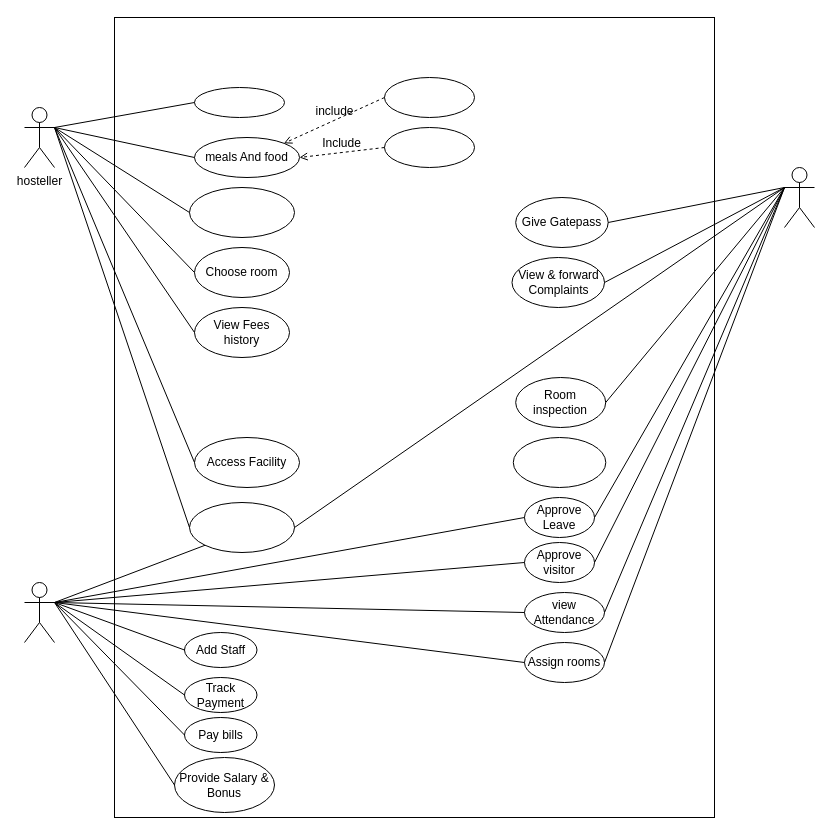
This 838x835 diagram has some shape labels left out. Here are the shapes that lost their labels. From the top down, the box of each, then its label:
(194, 86, 284, 118): Pay fees
(384, 76, 474, 118): Customized meals
(384, 126, 474, 168): Food Review
(188, 186, 294, 238): req for visitor
(784, 166, 814, 228): Warden
(512, 436, 606, 488): Edit Profile
(188, 502, 294, 552): Notifications
(24, 582, 54, 642): Admin
